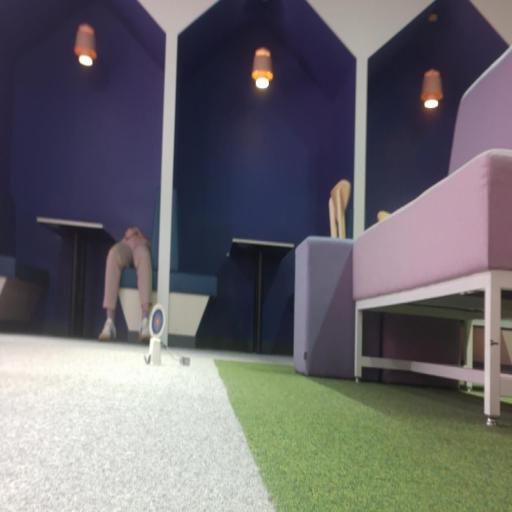target: (150, 304, 165, 338)
